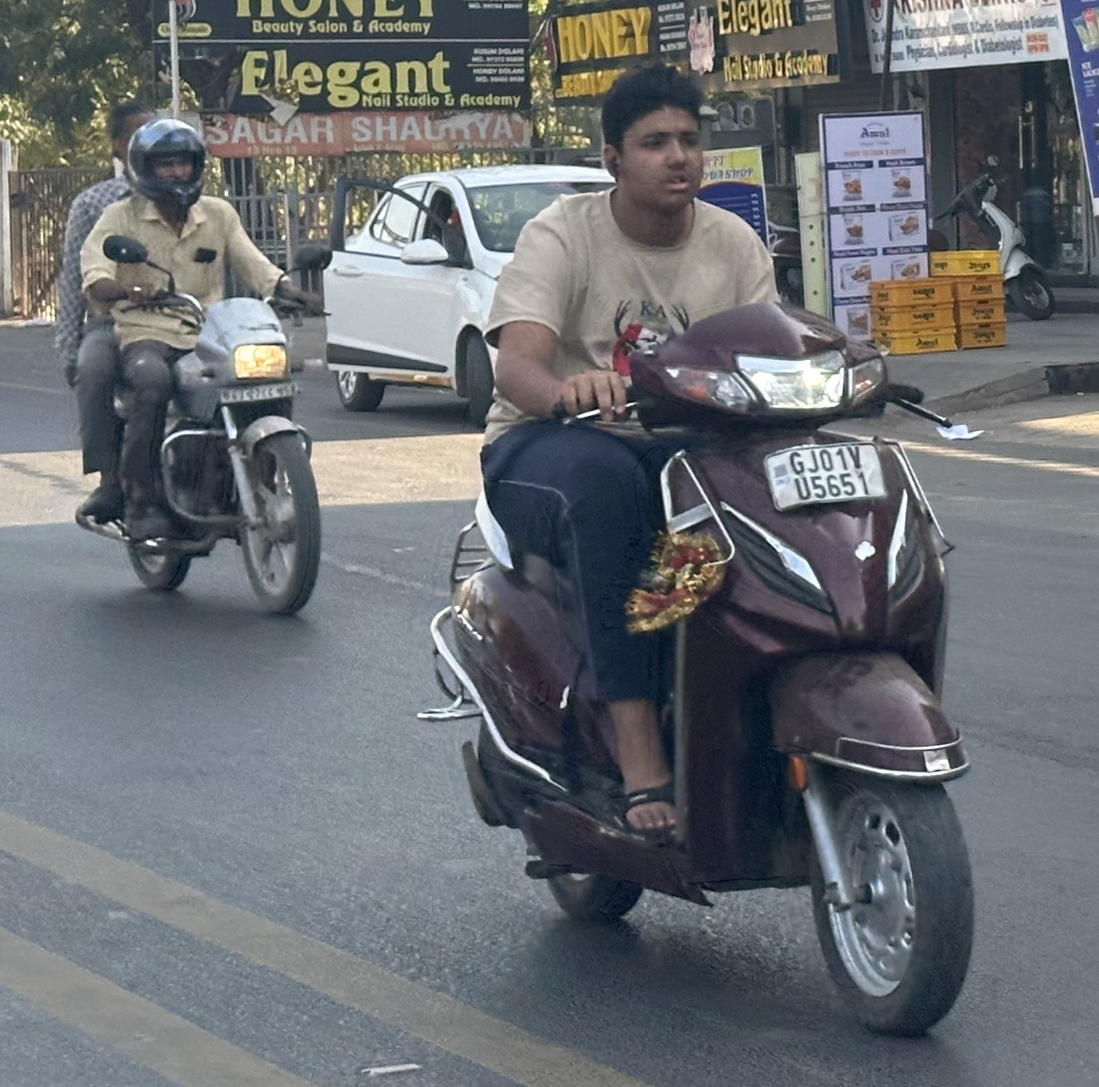BikeWithRider: (411, 64, 989, 1040), (50, 88, 334, 613)
Helmet: (124, 117, 209, 205)
NoHelmet: (590, 62, 719, 218), (102, 94, 159, 173)
